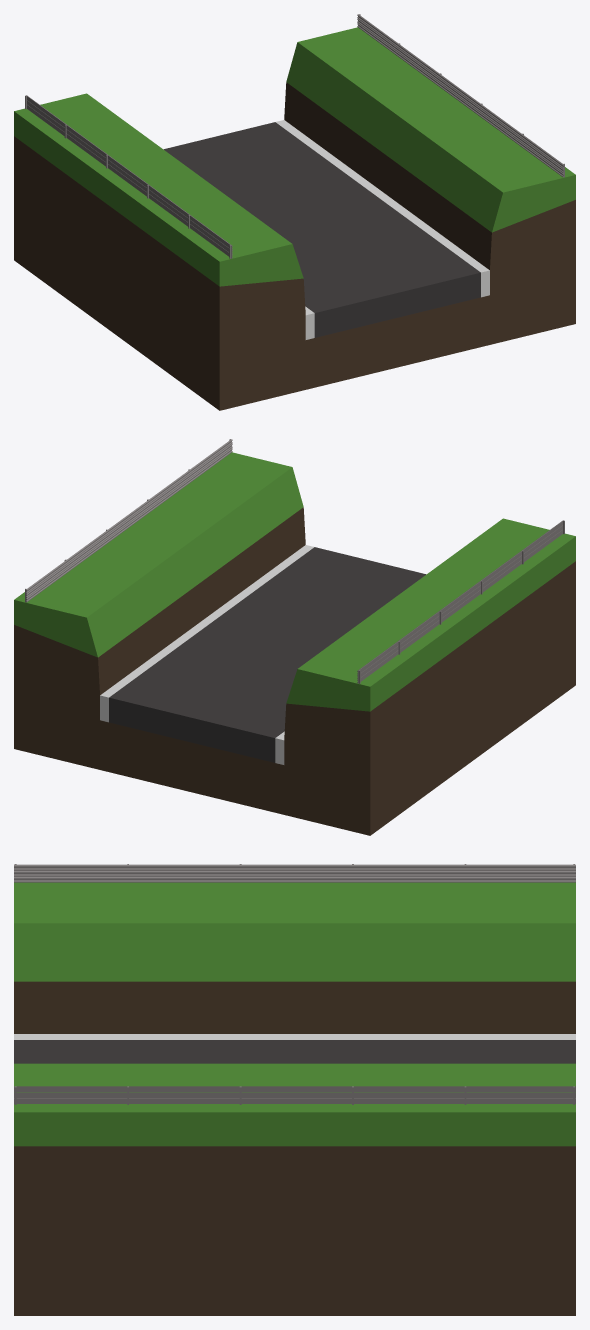
Rendered from tiles_tile-race-track-cliff.fbx.
3 views of the same model, one above another, from view 1: azimuth 30°, elevation 25°; view 2: azimuth 150°, elevation 25°; view 3: azimuth 270°, elevation 25° (orthographic). The views are drawn at different scales.
Parts seen in each view (by area): view 1: tiles_tile_race_track_cliff; view 2: tiles_tile_race_track_cliff; view 3: tiles_tile_race_track_cliff.
Boxes of the visible parts, box(x1,y1,x2,y2) form: tiles_tile_race_track_cliff: box(14, 14, 575, 410); tiles_tile_race_track_cliff: box(14, 439, 575, 835); tiles_tile_race_track_cliff: box(14, 864, 575, 1315).
Bounding box in the file's own units: 200 × 87 × 200.
